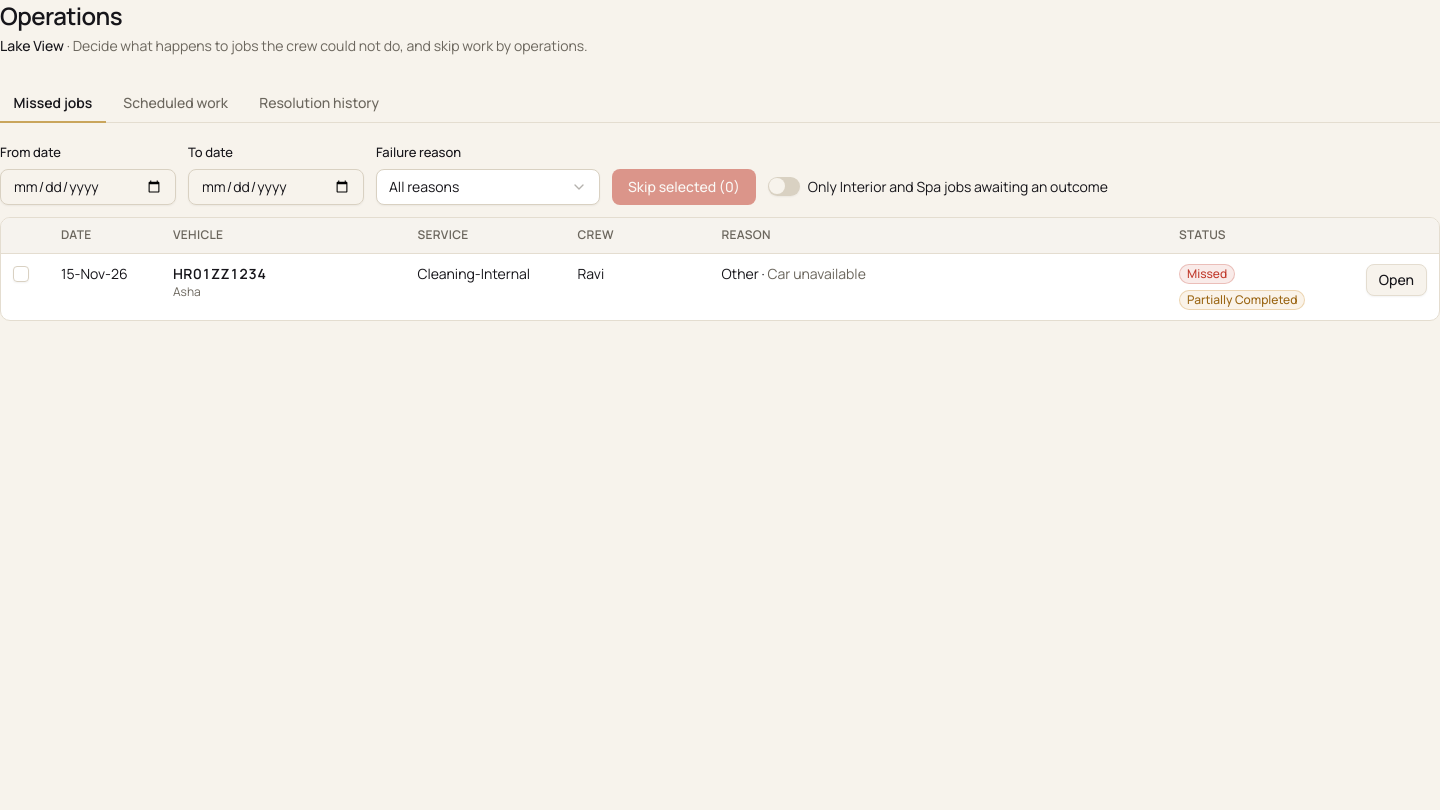
Test: lists a partially completed visit for follow-up with planned and delivered services
Expected: the text "Partially Completed" is shown, [1179,290,1305,310]
Click the button "Open": x=1396, y=280 [1366,264,1427,296]
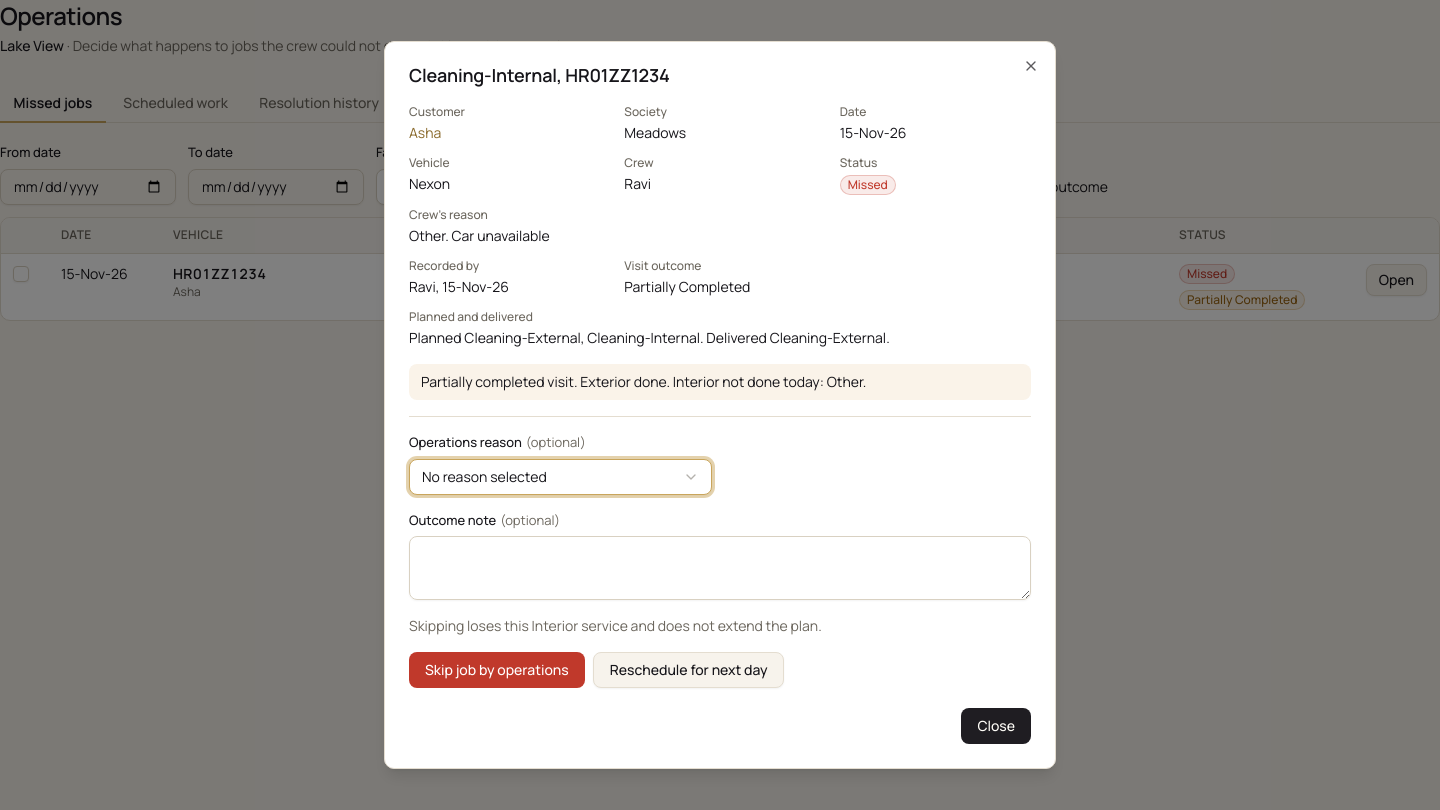
Result: the text "Planned Cleaning-External, Cleaning-Internal. Delivered Cleaning-External." is shown at [409,328,890,347]
Result: the text "Exterior done. Interior not done today: Other." is shown at [580,372,866,391]
Result: the text "Recorded by" is shown at [409,257,479,274]
